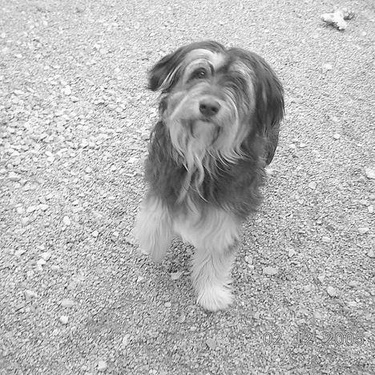dog: (103, 28, 290, 324)
